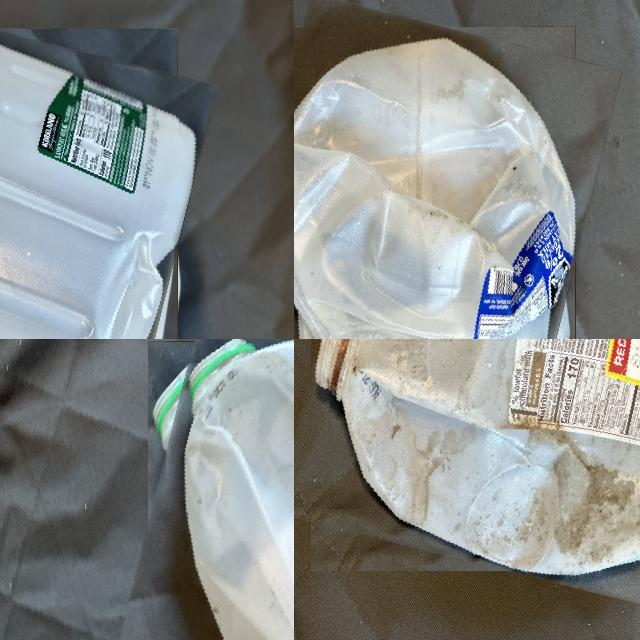milk-jug: (294, 10, 599, 339), (294, 339, 640, 594), (0, 5, 198, 339), (126, 339, 294, 640)
